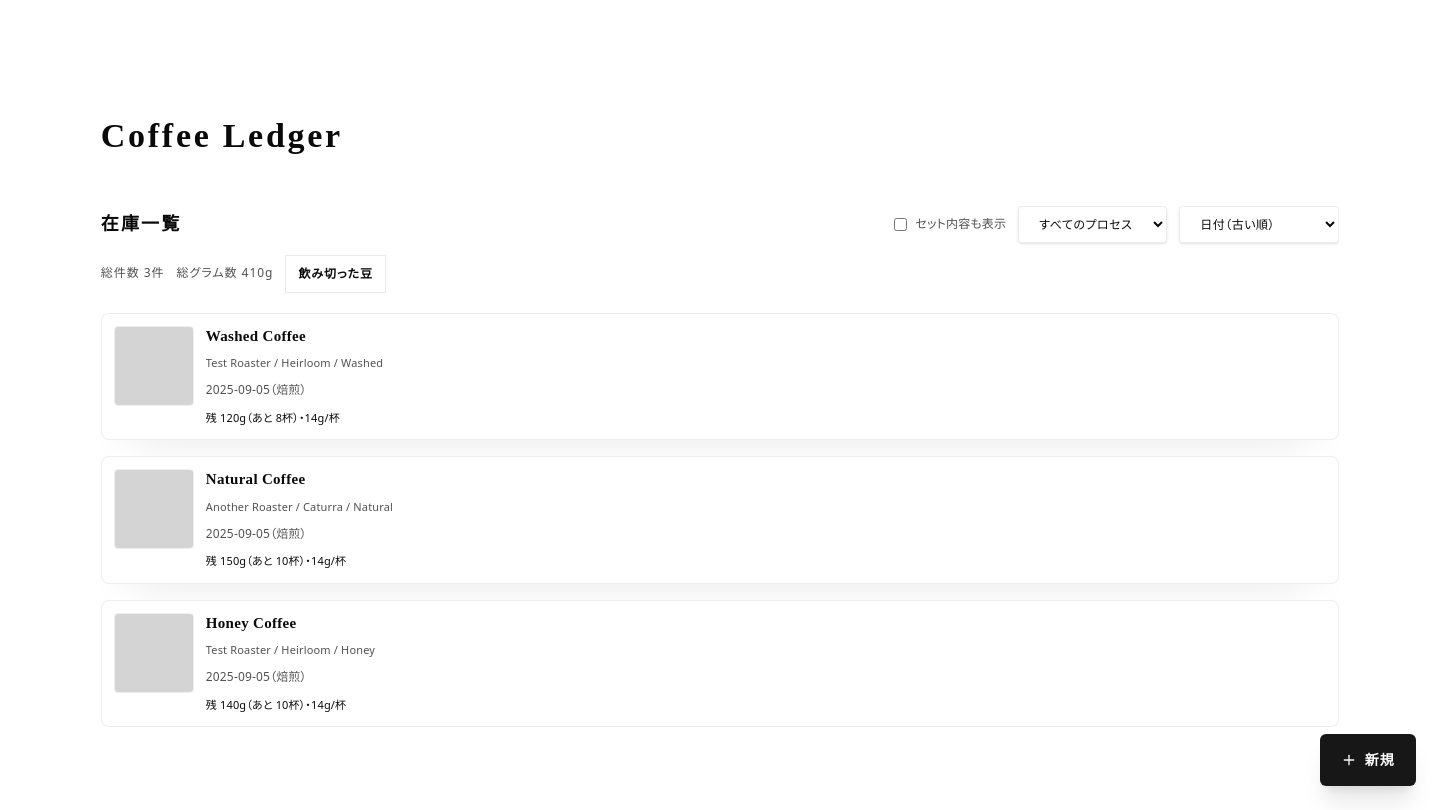
HomePage › should allow filtering bags by process in inventory
Expected: the heading "在庫一覧" is shown, left=101, top=210, right=181, bottom=238
Expected: the heading "Washed Coffee" is shown, left=206, top=326, right=306, bottom=346
Select "Natural" in the dropdown named "プロセスで絞り込む" at x=1093, y=224, box left=1018, top=206, right=1167, bottom=243
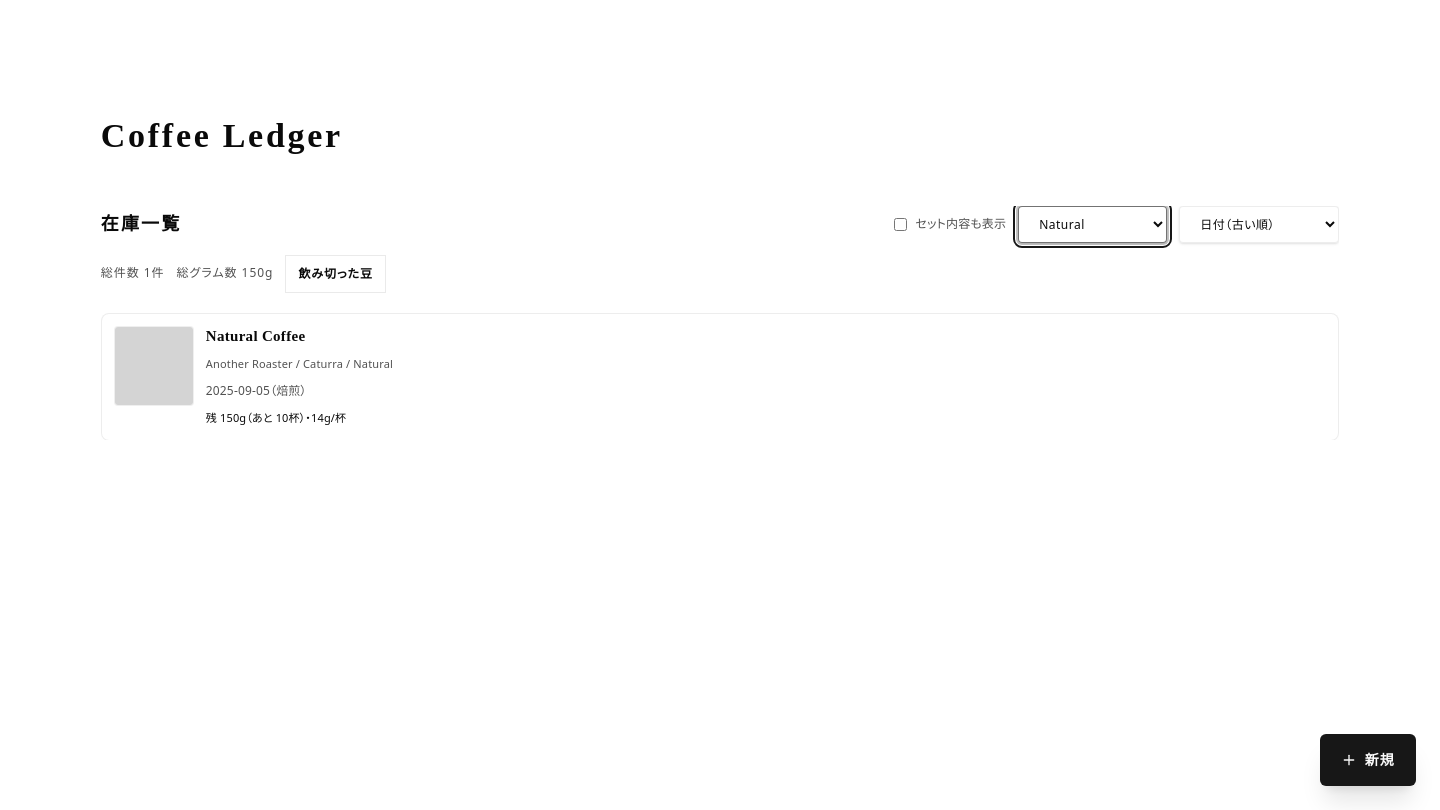
Expected: the heading "Natural Coffee" is shown, left=206, top=326, right=305, bottom=346
Expected: the link "Washed Coffee" is gone
Expected: the link "Honey Coffee" is gone
Select "すべてのプロセス" in the dropdown named "プロセスで絞り込む" at x=1093, y=224, box left=1018, top=206, right=1167, bottom=243
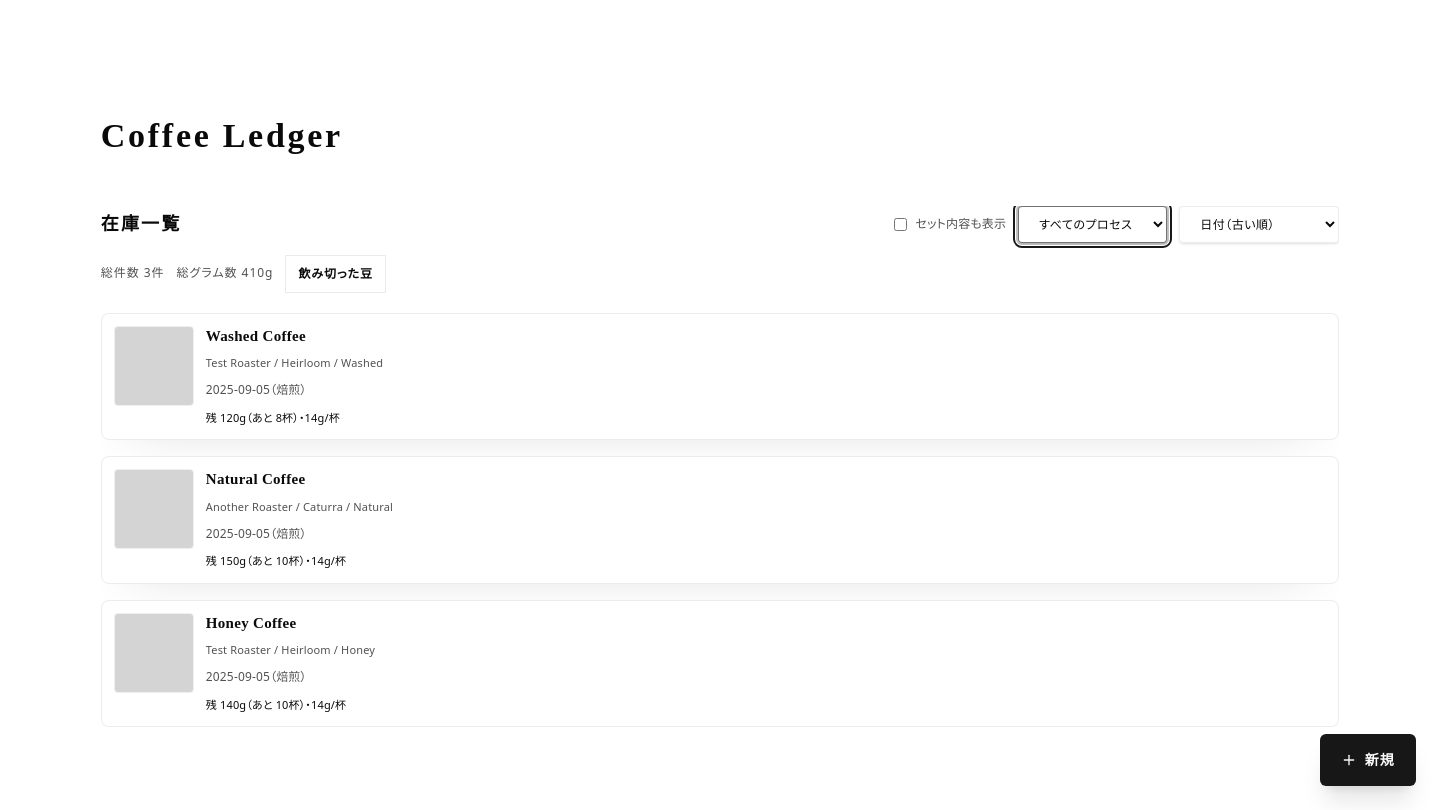
Expected: the heading "Natural Coffee" is shown, left=206, top=469, right=305, bottom=490
Expected: the heading "Washed Coffee" is shown, left=206, top=326, right=306, bottom=346
Expected: the heading "Honey Coffee" is shown, left=206, top=613, right=296, bottom=633
